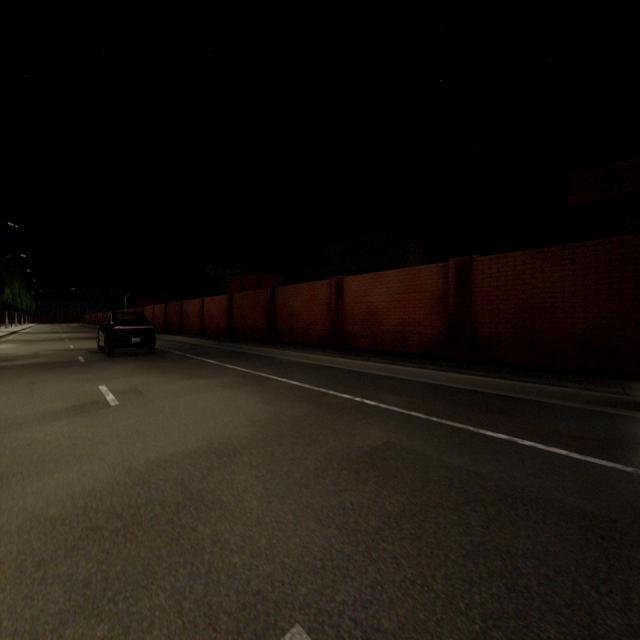Vehicle: (98, 310, 156, 356)
